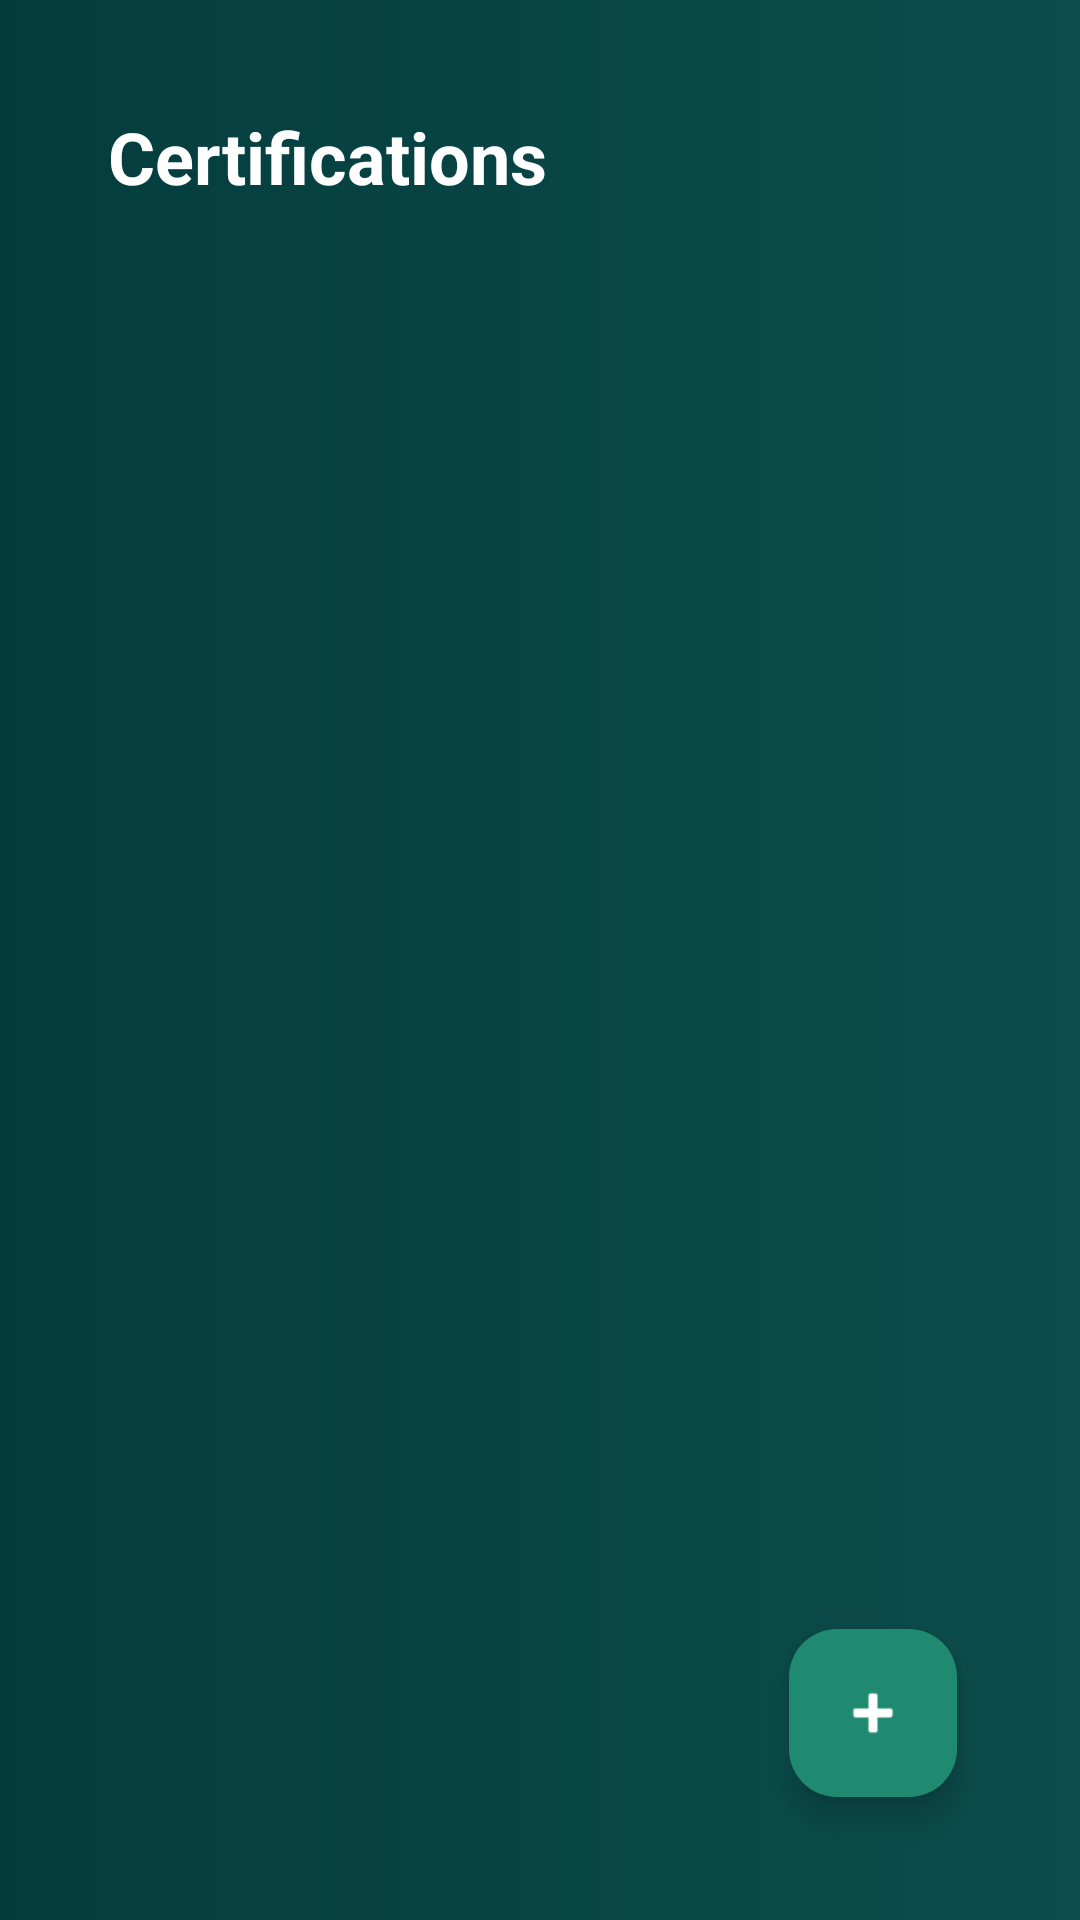

Icons on this 1080px x 1920px Android screen, each with its box as [left=x1, top=y1, right=x2, bottom=y2]:
add: [left=789, top=1629, right=957, bottom=1797]
